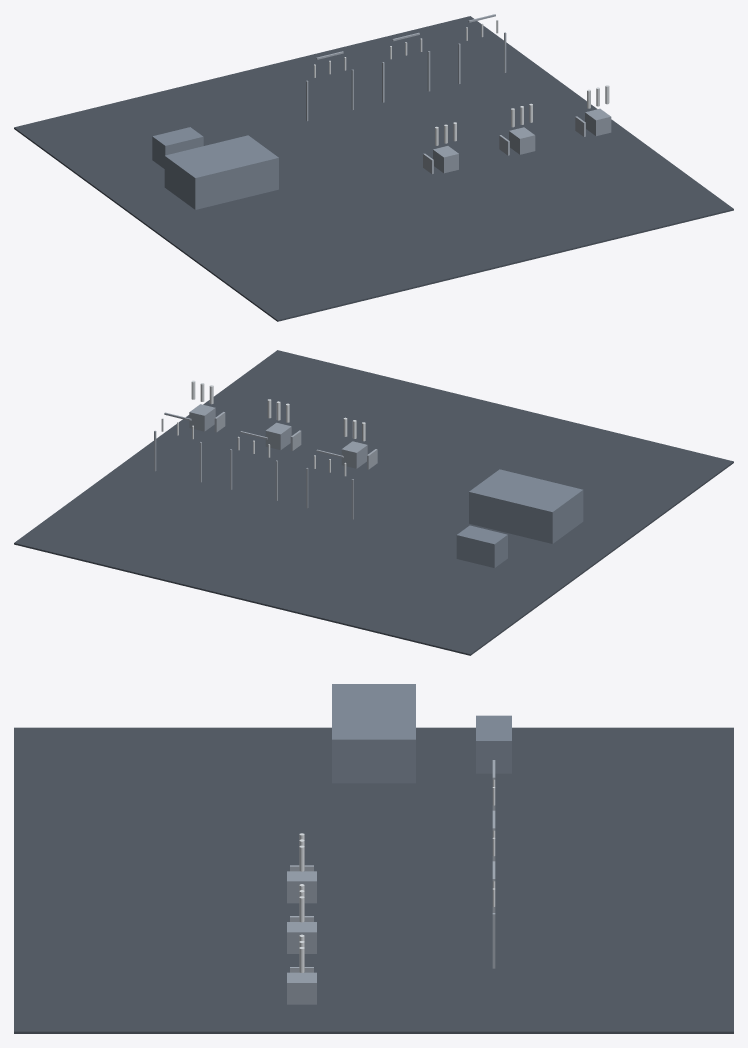
Rendered from dewa-nad-hessa.glb.
The picture shows the model from 3 angles, top to bottom: view 1: azimuth 30°, elevation 25°; view 2: azimuth 150°, elevation 25°; view 3: azimuth 270°, elevation 25°; orthographic projection. The views are drawn at different scales.
Visible parts, largest first — view 1: DW_Ground, DW_GIS, DW_GIS2, DW_TX_2, DW_TX_1, DW_TX_0; view 2: DW_Ground, DW_GIS, DW_GIS2, DW_TX_1, DW_TX_0, DW_TX_2; view 3: DW_Ground, DW_GIS, DW_GIS2, DW_TX_2, DW_TX_0, DW_TX_1.
Boxes of the visible parts, x1,y1,x2,y2 form: DW_Ground: (14,16,733,321); DW_GIS: (164,135,278,209); DW_GIS2: (152,127,203,168); DW_TX_2: (585,108,611,136); DW_TX_1: (509,127,535,154); DW_TX_0: (433,146,458,173); DW_Ground: (14,350,733,655); DW_GIS: (469,469,583,543); DW_GIS2: (456,525,507,567); DW_TX_1: (265,422,291,450); DW_TX_0: (341,441,367,468); DW_TX_2: (189,404,215,431); DW_Ground: (14,727,733,1033); DW_GIS: (332,684,415,783); DW_GIS2: (476,715,511,773); DW_TX_2: (287,972,316,1004); DW_TX_0: (287,871,316,903); DW_TX_1: (287,922,316,953).
Bounding box in the file's own units: 60 × 10.4 × 60.
